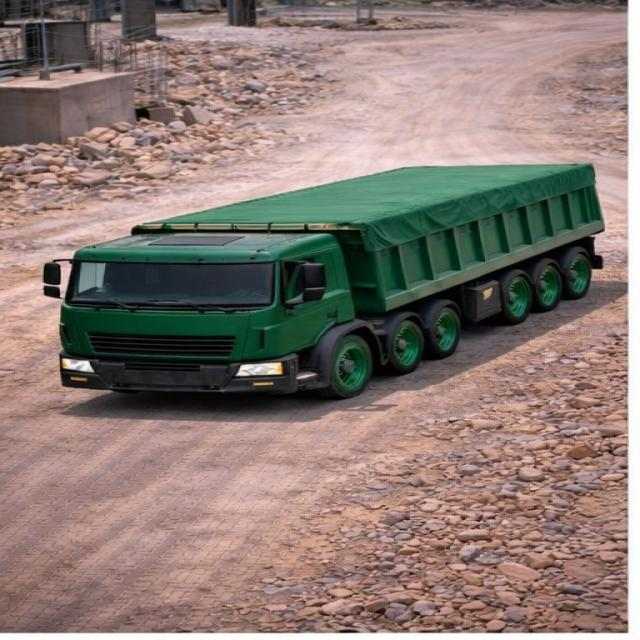Box: (130, 166, 592, 234)
Truck: (47, 154, 606, 398)
